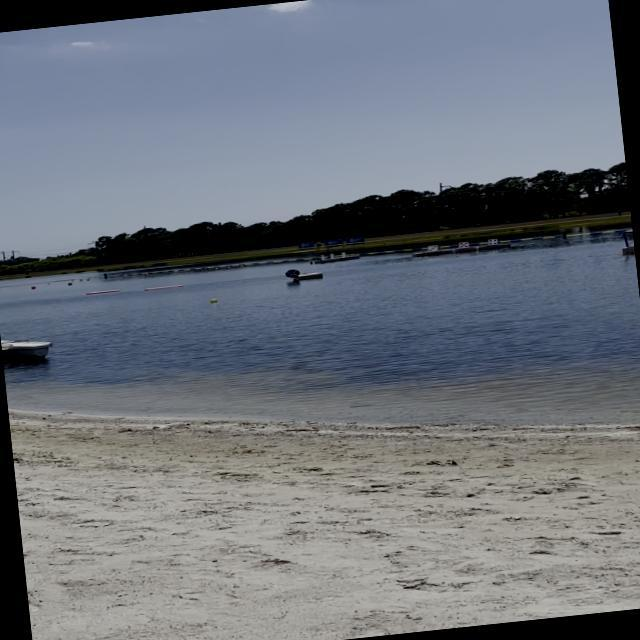buoy: (209, 297, 216, 303)
